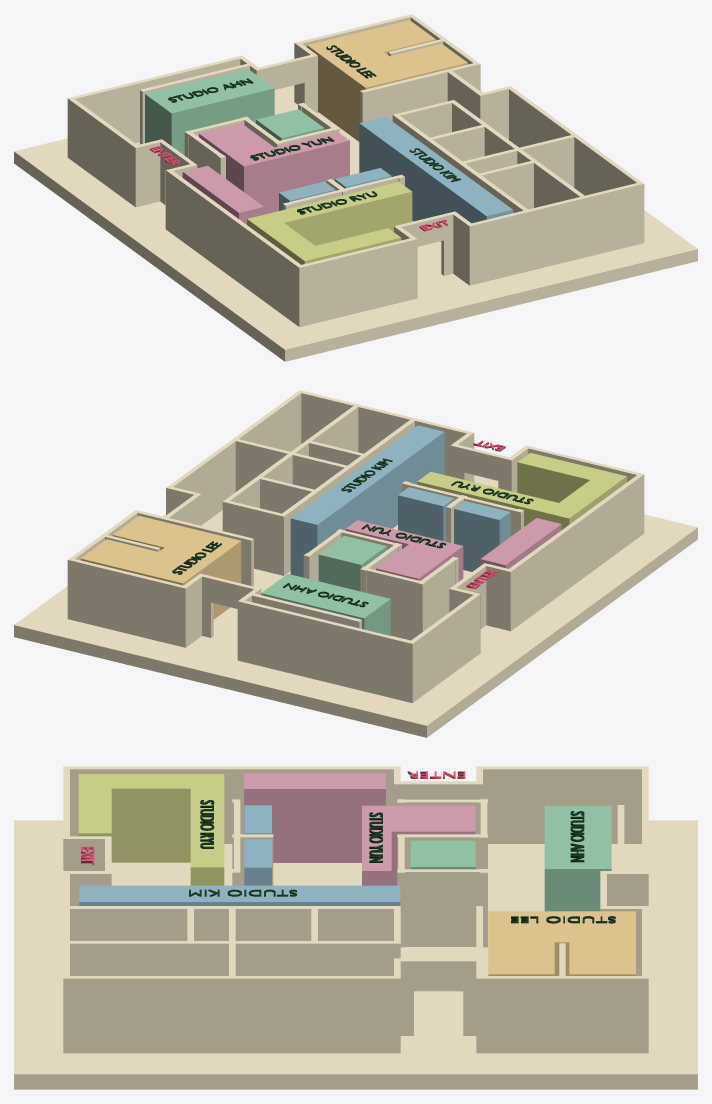
The model's file is hall.gltf.
3 views of the same model, one above another, from view 1: azimuth 30°, elevation 25°; view 2: azimuth 150°, elevation 25°; view 3: azimuth 270°, elevation 25° (orthographic). The views are drawn at different scales.
Parts seen in each view (by area): view 1: sak-model, Cube.007, Cube.006, Cube, Cube.002, Cube.005, Cube.008, Cube.001, Cube.003, Cube.004; view 2: sak-model, Cube, Cube.007, Cube.006, Cube.005, Cube.002, Cube.003, Cube.001, Cube.004, Cube.008; view 3: sak-model, Cube.006, Cube.008, Cube.007, Cube, Cube.005, Cube.002, Cube.001, Cube.004, Cube.003, STUDIO AHN, STUDIO YUN (+2 smaller).
Part boxes in pixels (x1,y1,x2,y2): sak-model: (14, 14, 697, 361); Cube.007: (307, 20, 467, 141); Cube.006: (247, 182, 412, 264); Cube: (359, 116, 513, 241); Cube.002: (199, 123, 349, 214); Cube.005: (145, 69, 274, 155); Cube.008: (182, 165, 263, 224); Cube.001: (256, 109, 324, 140); Cube.003: (279, 181, 335, 210); Cube.004: (335, 168, 391, 188); sak-model: (14, 390, 697, 737); Cube: (290, 425, 444, 577); Cube.007: (80, 516, 241, 619); Cube.006: (417, 453, 626, 529); Cube.005: (261, 574, 390, 635); Cube.002: (345, 520, 463, 581); Cube.003: (454, 501, 510, 571); Cube.001: (318, 536, 386, 591); Cube.004: (398, 487, 454, 541); Cube.008: (480, 518, 561, 568); sak-model: (14, 766, 697, 1089); Cube.006: (78, 774, 224, 885); Cube.008: (244, 773, 385, 862); Cube.007: (488, 911, 635, 975); Cube: (79, 885, 400, 905); Cube.005: (544, 805, 611, 911); Cube.002: (362, 805, 475, 885); Cube.001: (410, 840, 475, 869); Cube.004: (244, 839, 271, 885); Cube.003: (244, 805, 271, 834); STUDIO AHN: (570, 811, 584, 862); STUDIO YUN: (369, 812, 382, 862).
Size of the model in its own units: 18.21 by 3.04 by 20.71.
